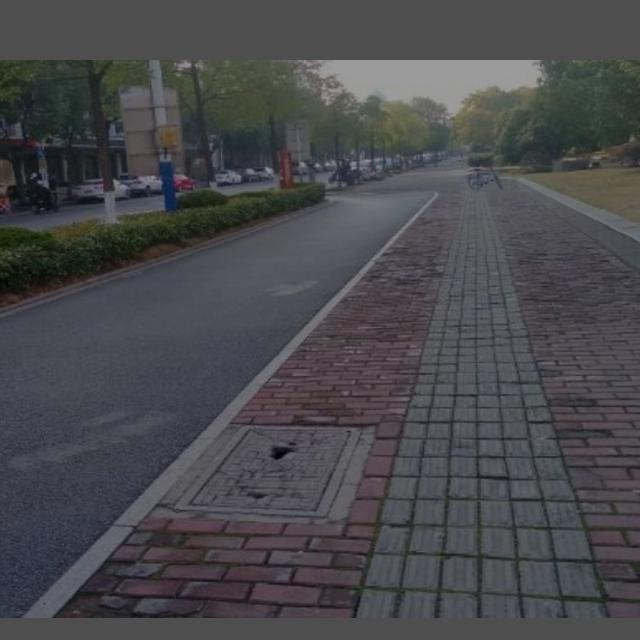broke: (173, 422, 365, 517)
